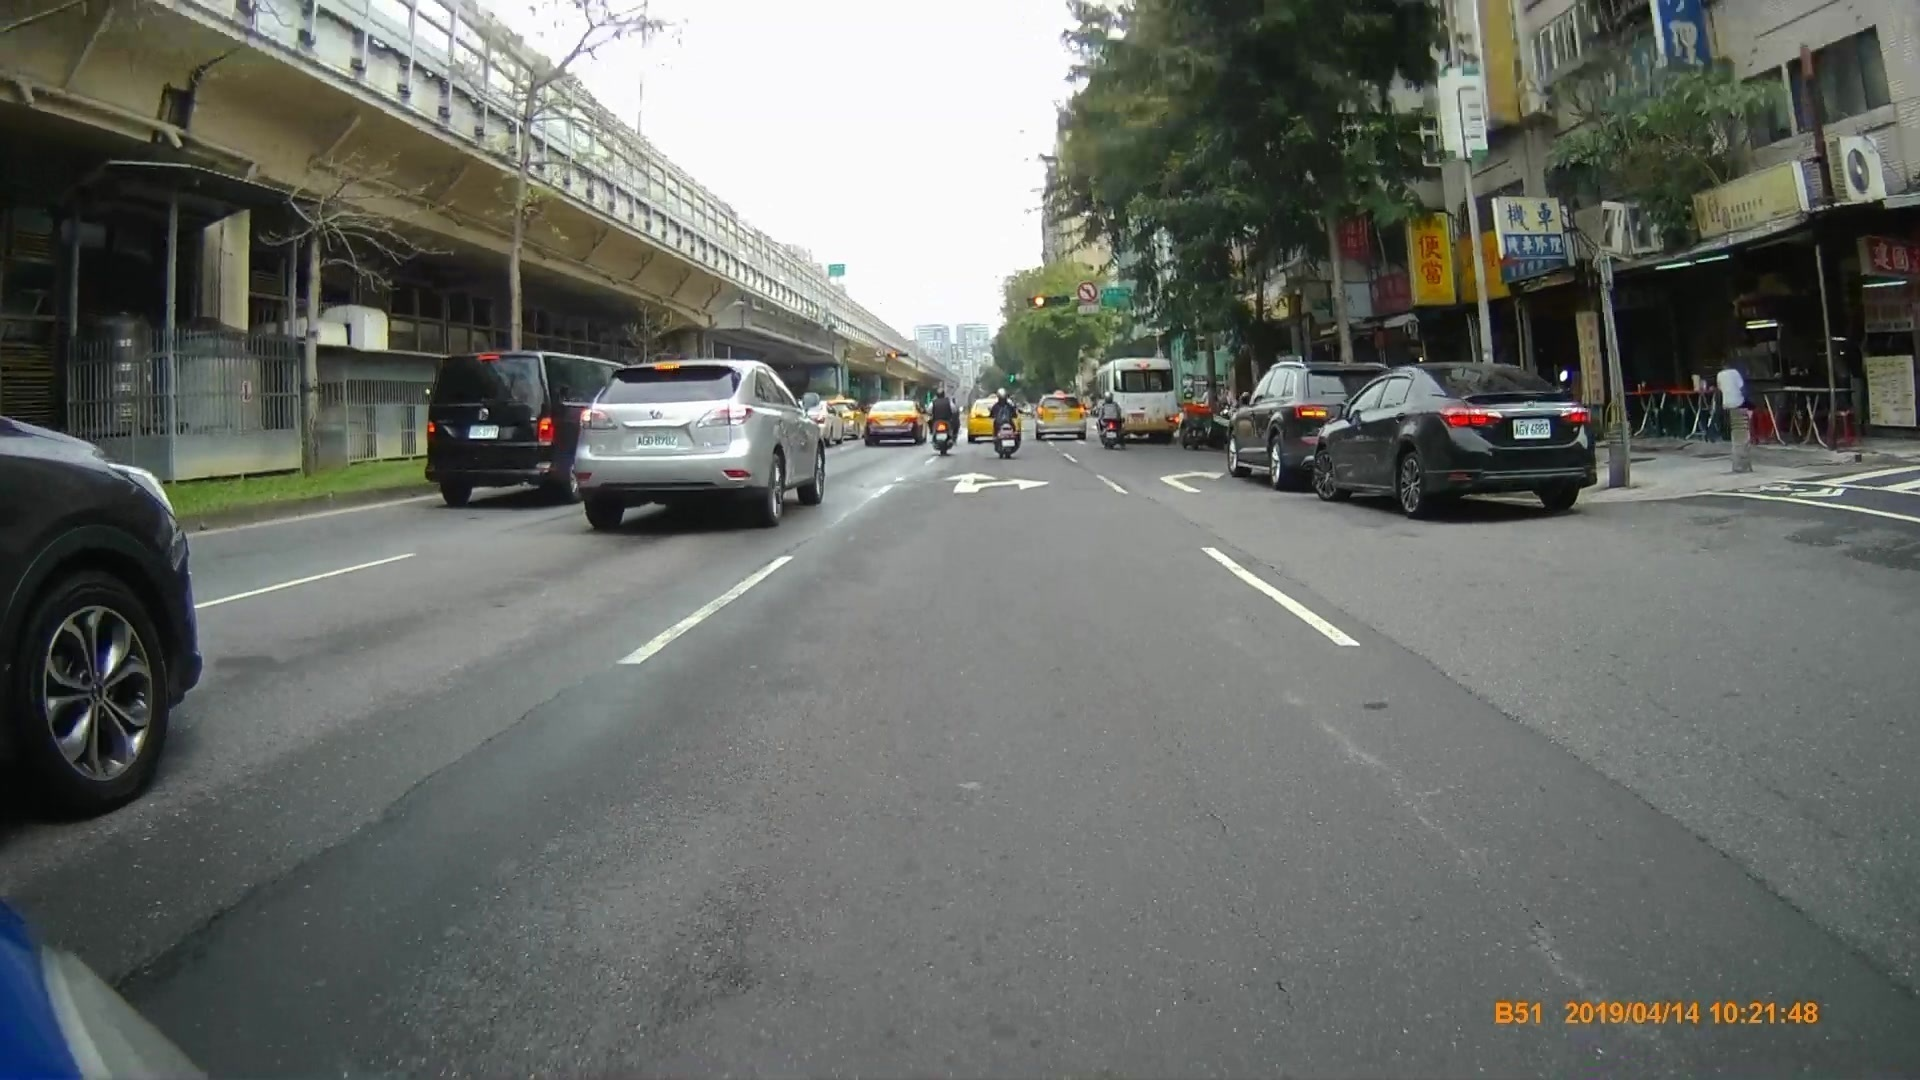License_plate: (632, 428, 678, 451), (1512, 418, 1558, 441), (465, 421, 502, 441)
